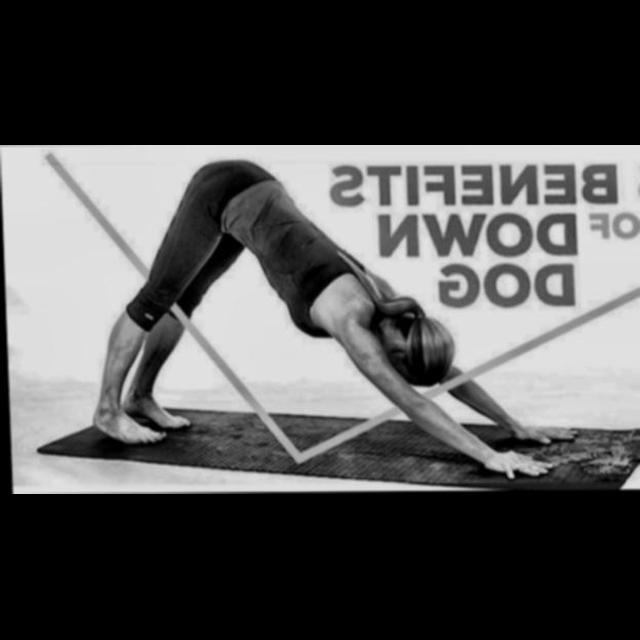Downward-Facing_Dog: (86, 155, 566, 482)
